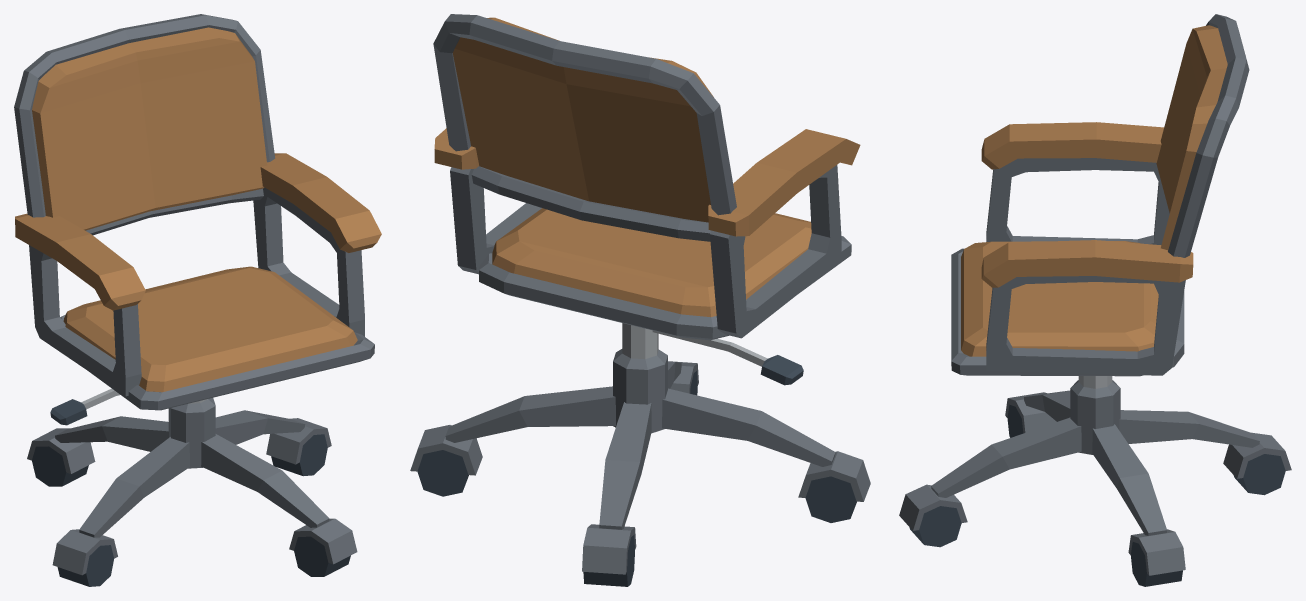
File: Chair_04.FBX
3 renders of one model, left to right at view 1: azimuth 30°, elevation 25°; view 2: azimuth 150°, elevation 25°; view 3: azimuth 270°, elevation 25°, orthographic. The views are drawn at different scales.
Parts seen in each view (by area): view 1: Chair_04; view 2: Chair_04; view 3: Chair_04.
Boxes of the visible parts, bbox=[...] form: Chair_04: bbox=[14, 14, 381, 586]; Chair_04: bbox=[410, 14, 870, 586]; Chair_04: bbox=[899, 14, 1291, 586].
Bounding box in the file's own units: 73.18 × 93.87 × 73.18.
